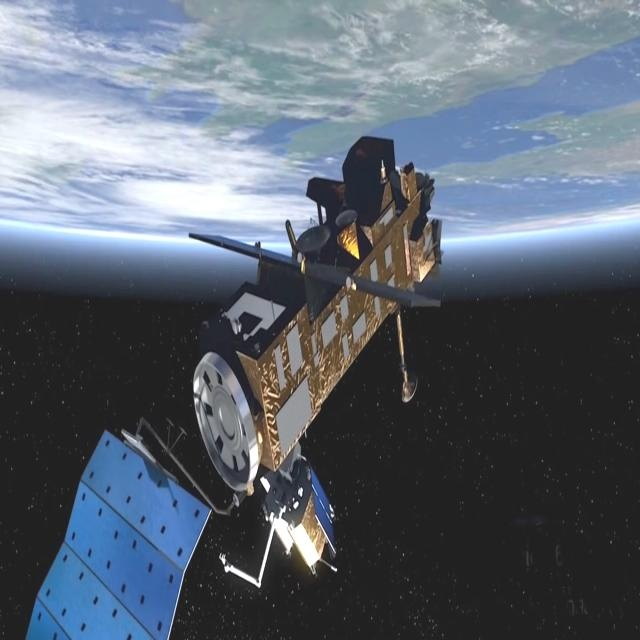medium_debris: (9, 122, 460, 640)
